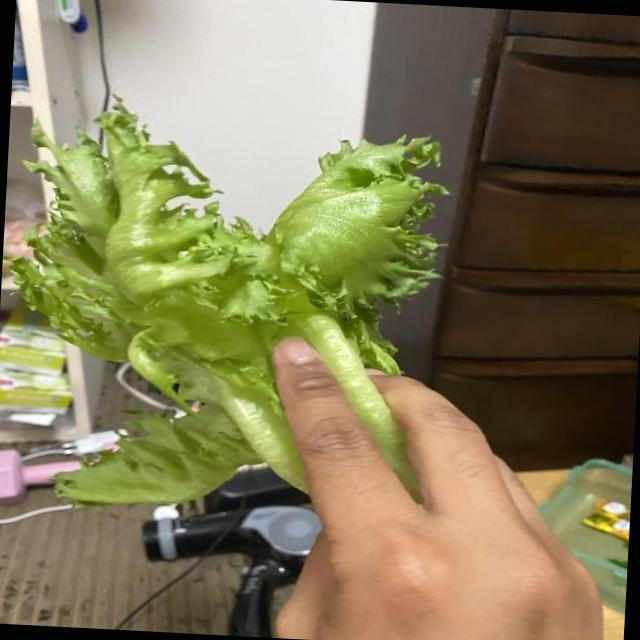Lettuce-Ready-to-Harvest: (12, 100, 444, 504)
